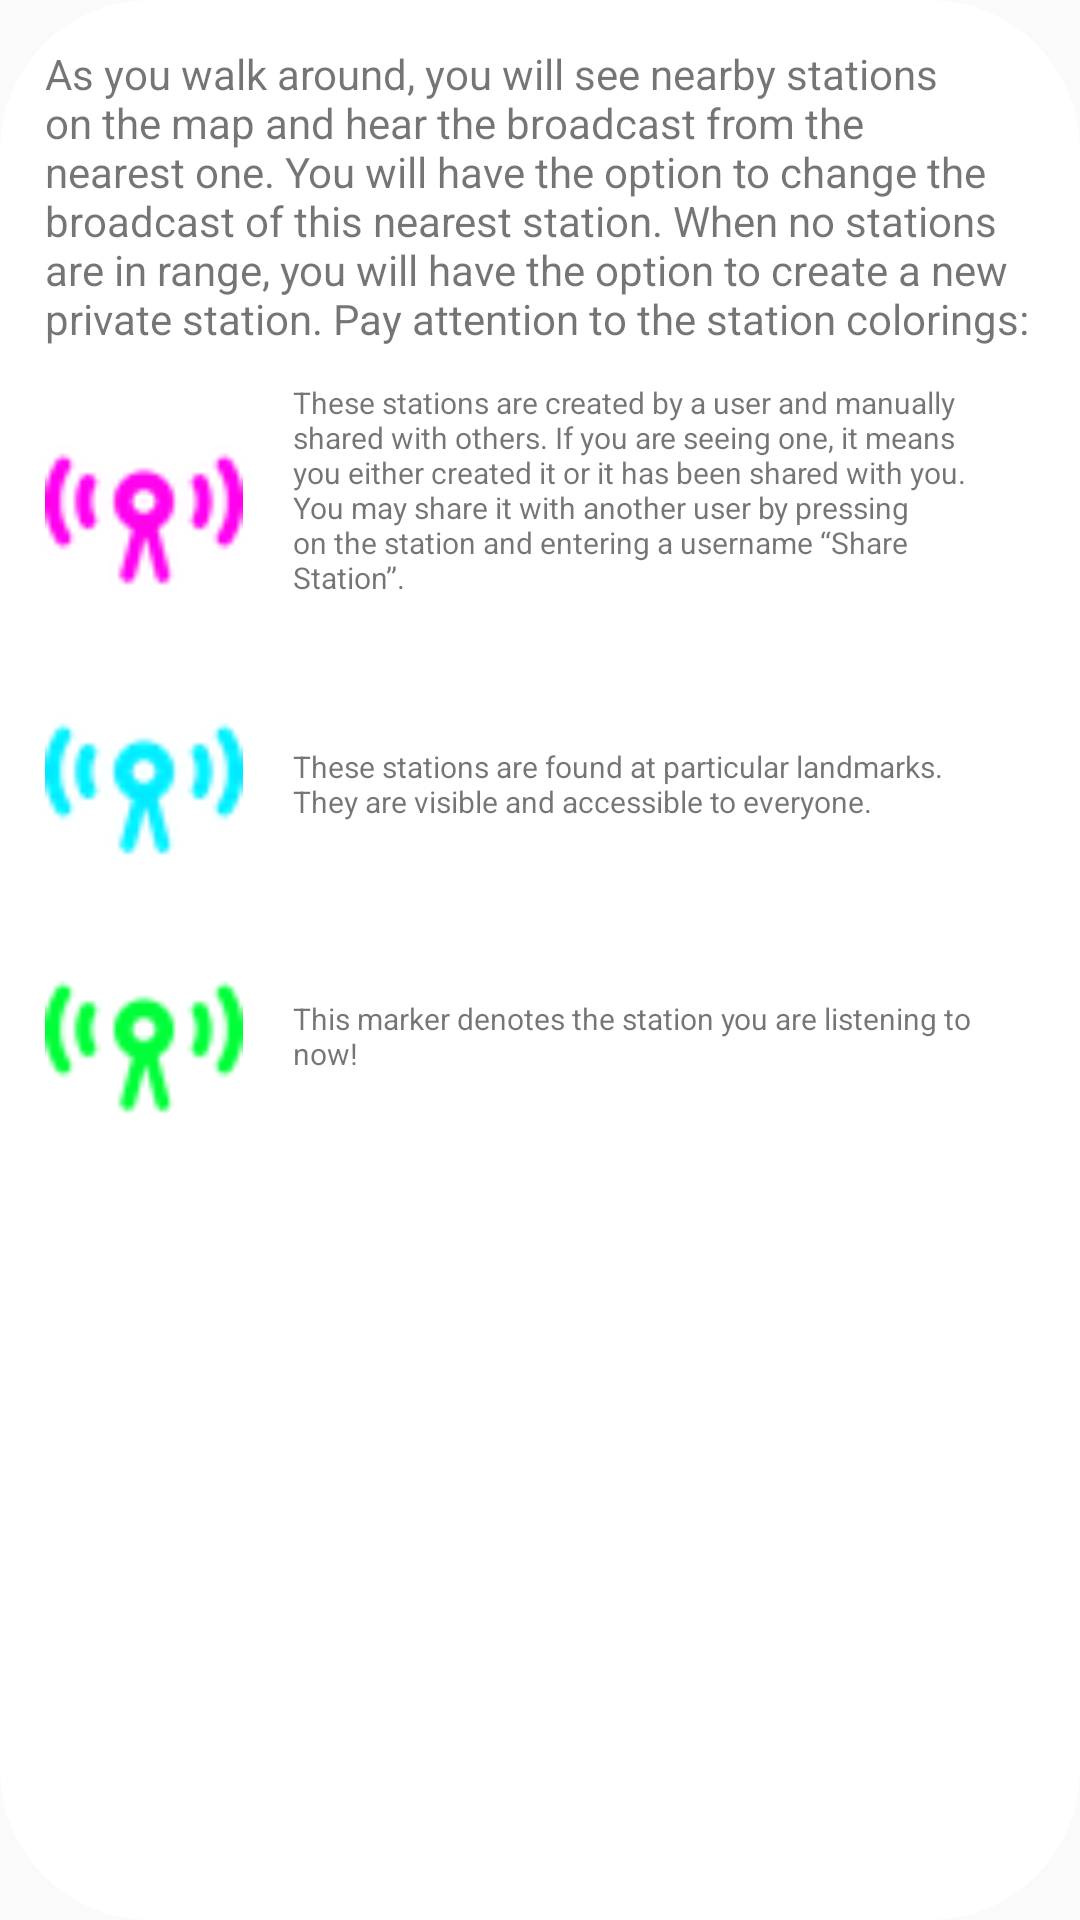

Named icons in this screenshot (1080px×1920px) and their centers, point (x, y):
broadcastcyan: point (144, 789)
broadcastgreen: point (144, 1047)
broadcastpurple: point (144, 519)
